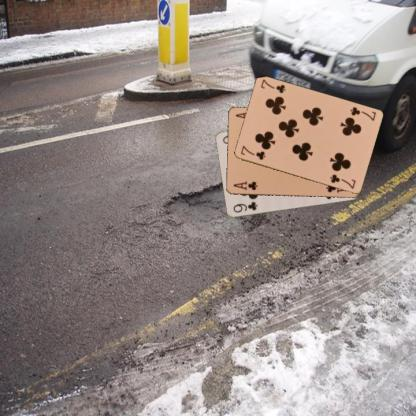7c: (347, 104, 377, 122), (237, 143, 266, 161)
9c: (230, 200, 259, 214)
Ac: (230, 179, 259, 191)
